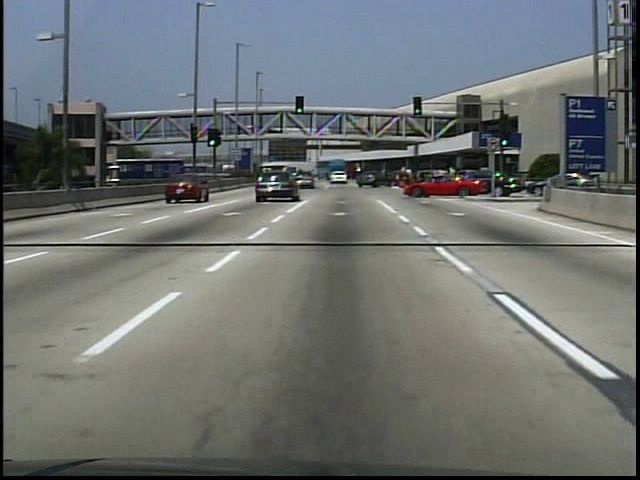person: (237, 125, 243, 137)
